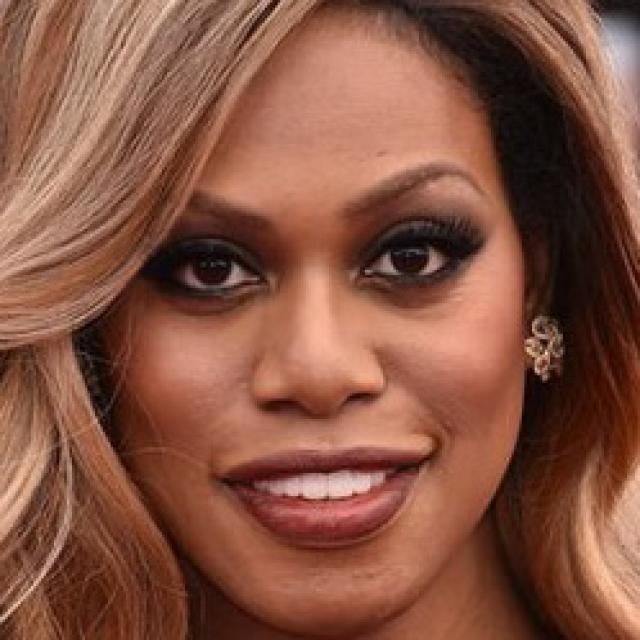Normal: (96, 0, 525, 635)
